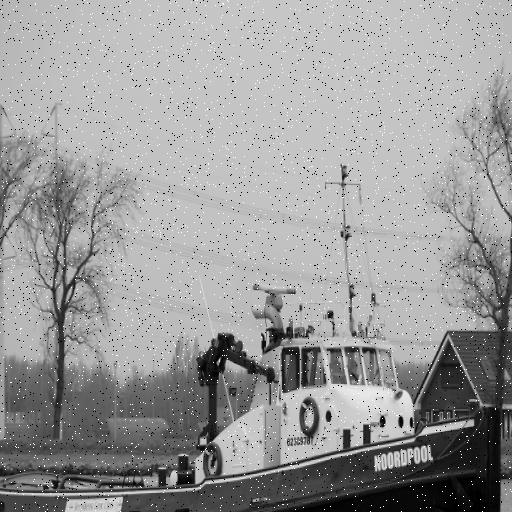tugboat: (1, 274, 508, 512)
